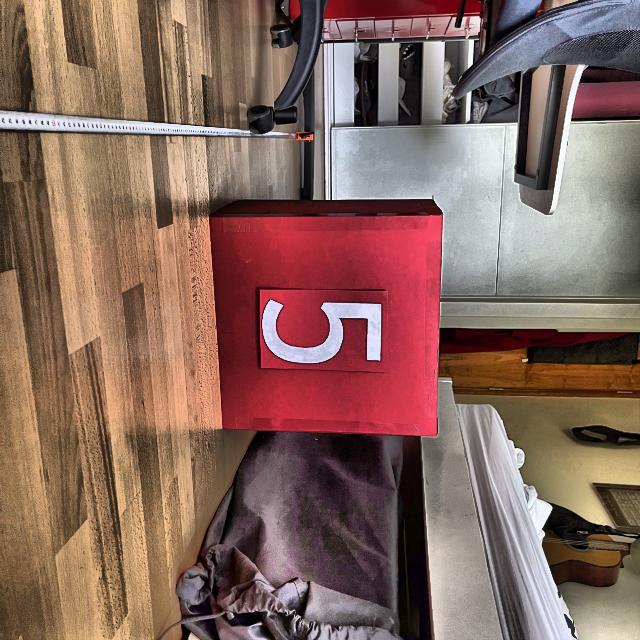five: (259, 297, 384, 366)
red box: (212, 199, 439, 437)
